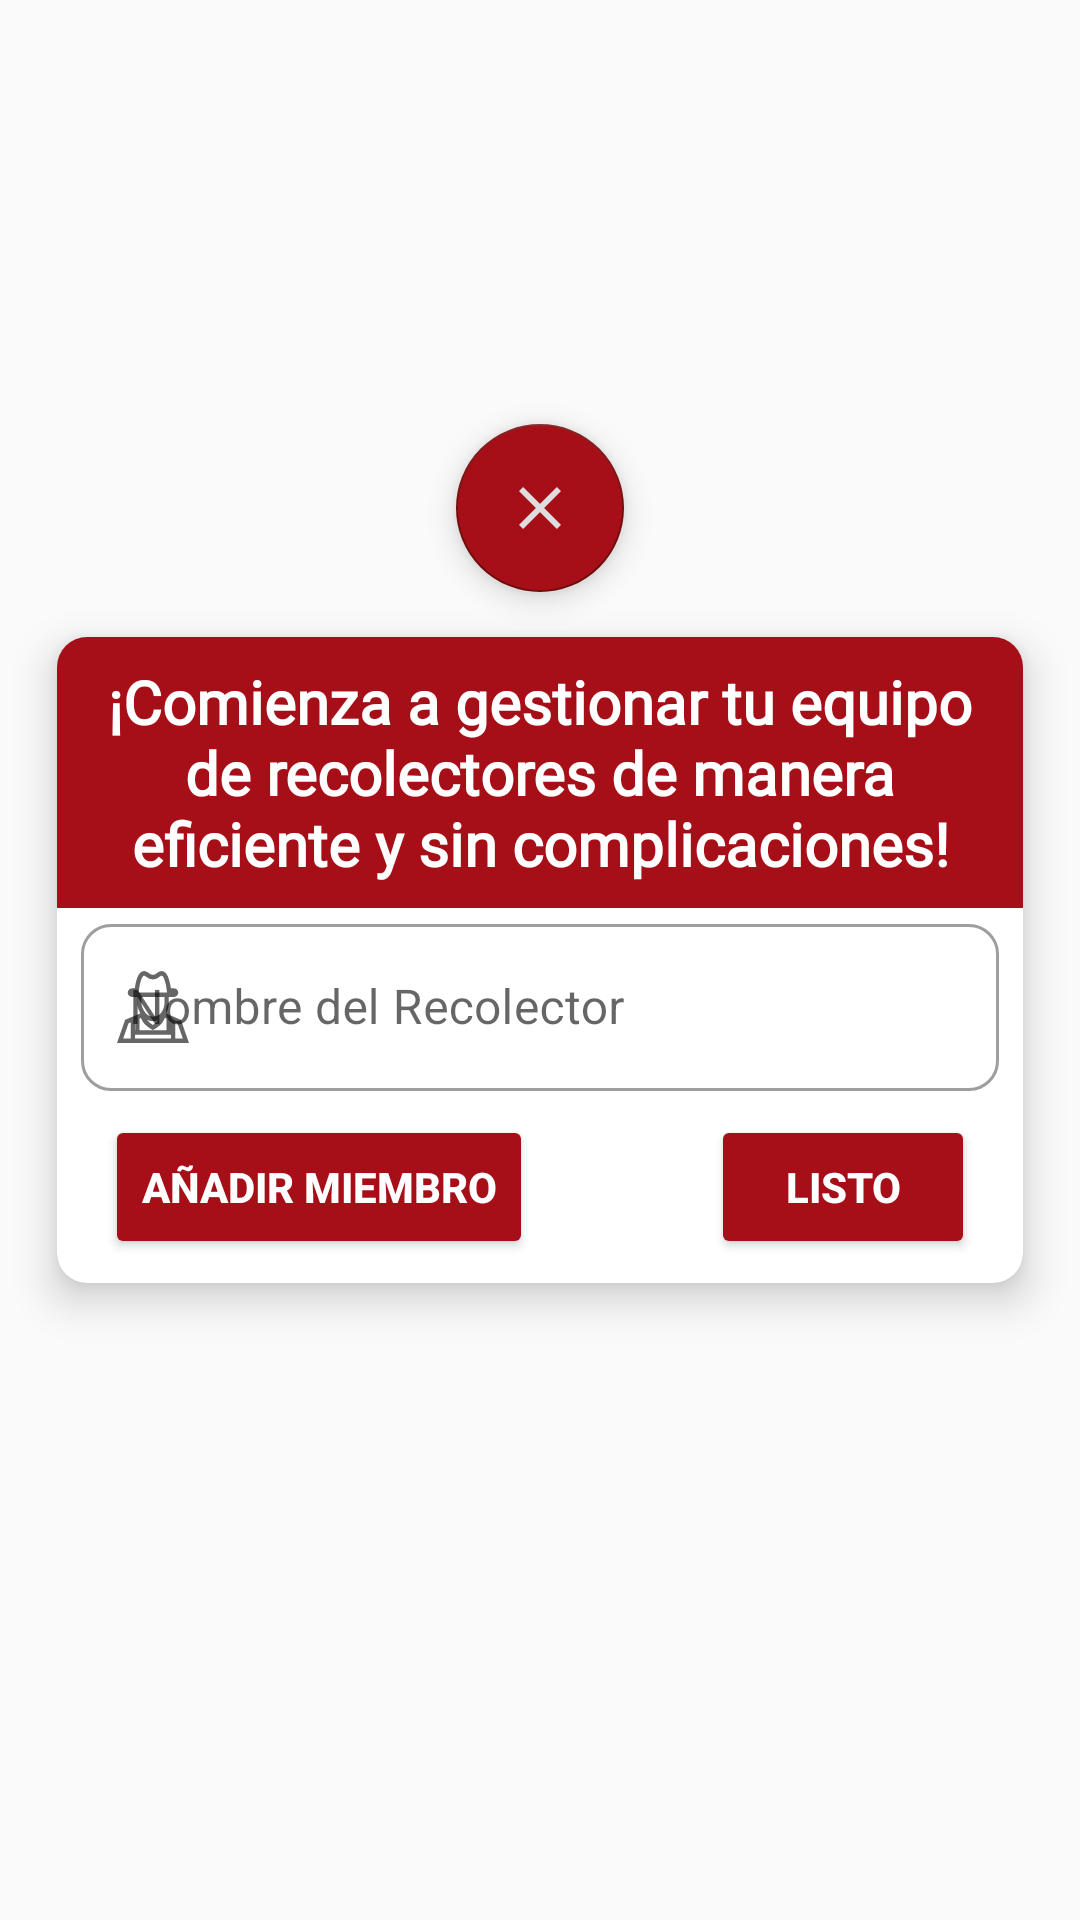

Icons on this 1080*1920 Android screen, each with the point to tap as (x=x, y=y):
close: (x=540, y=508)
